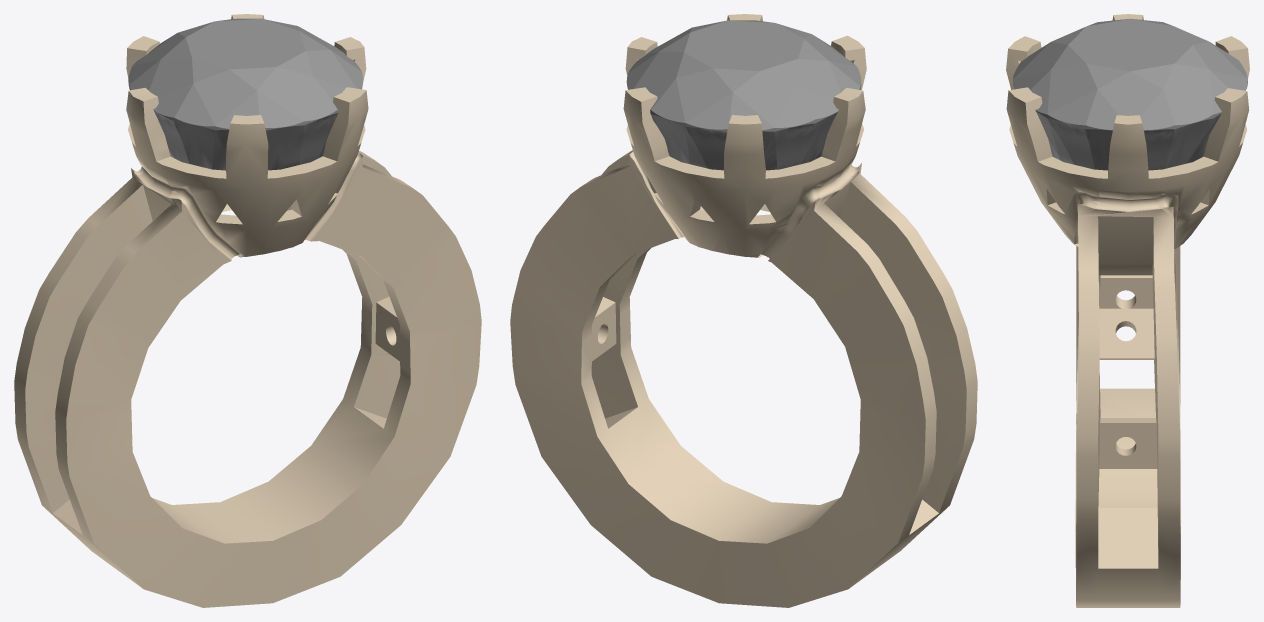
The picture shows the model from 3 angles, left to right: view 1: azimuth 30°, elevation 25°; view 2: azimuth 150°, elevation 25°; view 3: azimuth 270°, elevation 25°; orthographic projection.
Visible parts, largest first — view 1: 406_XiuZheng_YinJie, 406_XiuZheng_ZuanJie; view 2: 406_XiuZheng_YinJie, 406_XiuZheng_ZuanJie; view 3: 406_XiuZheng_YinJie, 406_XiuZheng_ZuanJie.
Part boxes in pixels (x1=…): 406_XiuZheng_YinJie: x1=14, y1=14, x2=481, y2=607; 406_XiuZheng_ZuanJie: x1=128, y1=18, x2=362, y2=170; 406_XiuZheng_YinJie: x1=510, y1=14, x2=977, y2=607; 406_XiuZheng_ZuanJie: x1=626, y1=20, x2=861, y2=170; 406_XiuZheng_YinJie: x1=1006, y1=14, x2=1249, y2=607; 406_XiuZheng_ZuanJie: x1=1013, y1=18, x2=1247, y2=170.
Size of the model in its own units: 2.21 by 2.74 by 1.12.
2 materials, 1 textured.
